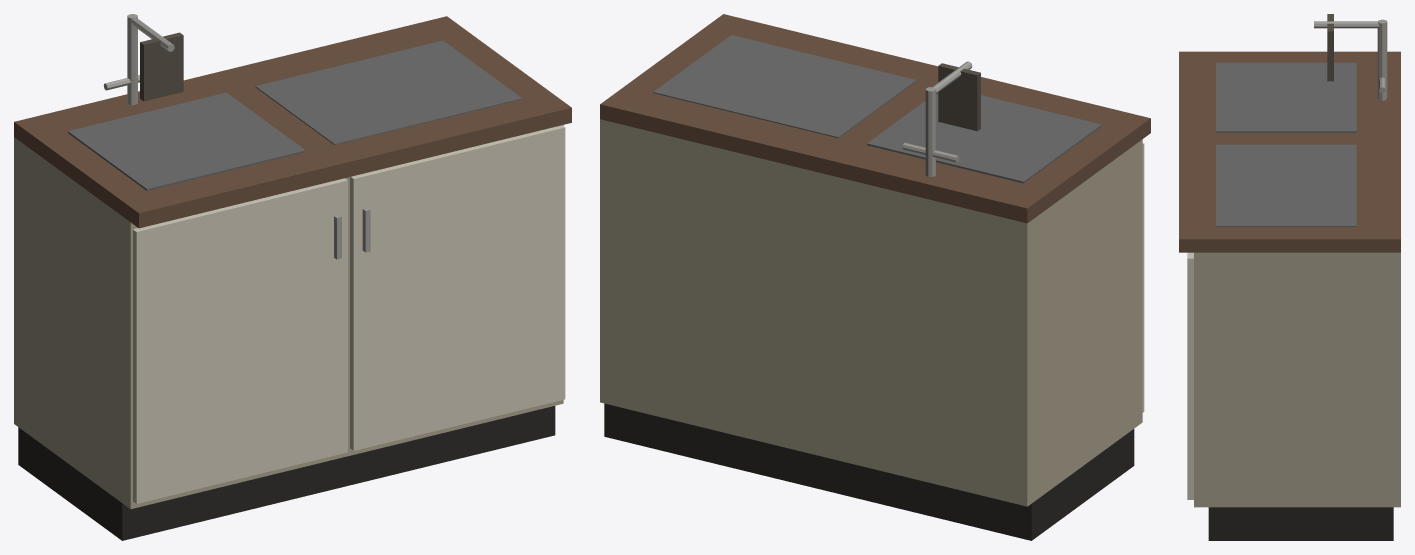
File: kitchen-sink-unit-b4f65a95dca1.glb
3 views of the same model, side by side, from view 1: azimuth 30°, elevation 25°; view 2: azimuth 150°, elevation 25°; view 3: azimuth 270°, elevation 25° (orthographic). The views are drawn at different scales.
Parts seen in each view (by area): view 1: enamel, plastic-light, wood, metal, plastic-dark, fabric, brushed; view 2: plastic-light, wood, metal, plastic-dark, fabric, brushed, enamel; view 3: plastic-light, wood, metal, plastic-dark, enamel, brushed, fabric.
Part boxes in pixels (x1,y1,x2,y2): enamel: (133,125,565,503); plastic-light: (14,125,563,509); wood: (14,16,571,228); metal: (68,40,522,190); plastic-dark: (18,406,555,540); fabric: (140,32,183,101); brushed: (103,14,370,259); plastic-light: (600,119,1142,506); wood: (600,14,1150,223); metal: (653,35,1101,183); plastic-dark: (604,403,1134,540); fabric: (938,63,980,131); brushed: (902,61,972,176); enamel: (1142,143,1144,412); plastic-light: (1194,252,1400,507); wood: (1179,51,1400,252); metal: (1216,62,1356,226); plastic-dark: (1208,507,1393,540); enamel: (1187,252,1193,499); brushed: (1314,19,1387,100); fabric: (1327,14,1333,81).
Bounding box in the file's own units: 1.2 × 1.13 × 0.6.
